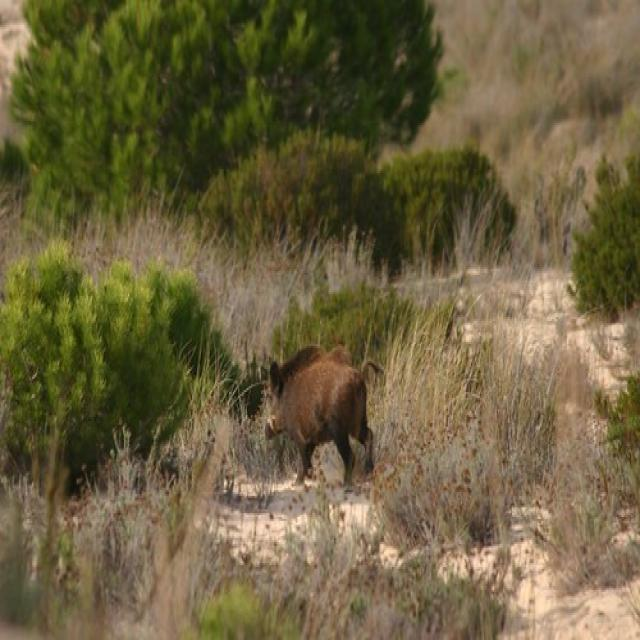boar: (252, 326, 400, 502)
